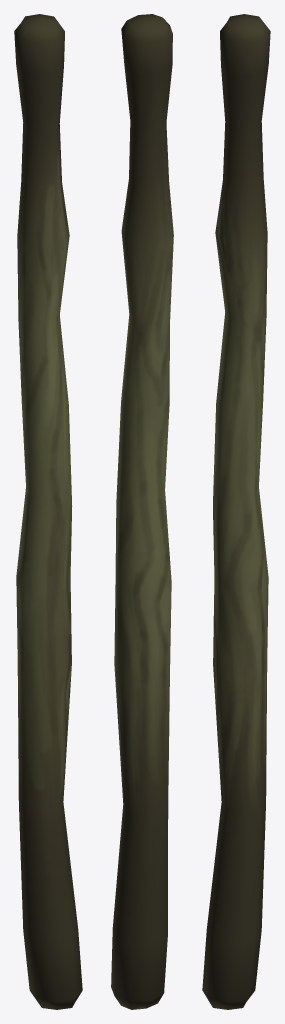
The model's file is support_straight.fbx.
3 renders of one model, left to right at view 1: azimuth 90°, elevation 25°; view 2: azimuth 210°, elevation 25°; view 3: azimuth 270°, elevation 25°, orthographic.
Parts seen in each view (by area): view 1: Cube; view 2: Cube; view 3: Cube.
Boxes of the visible parts, left/top/right/bottom form: Cube: left=14, top=14, right=82, bottom=1009; Cube: left=111, top=14, right=173, bottom=1009; Cube: left=202, top=14, right=270, bottom=1009.
Bounding box in the file's own units: 42.43 × 37.94 × 674.
Materials: 1 (1 with a texture image).
